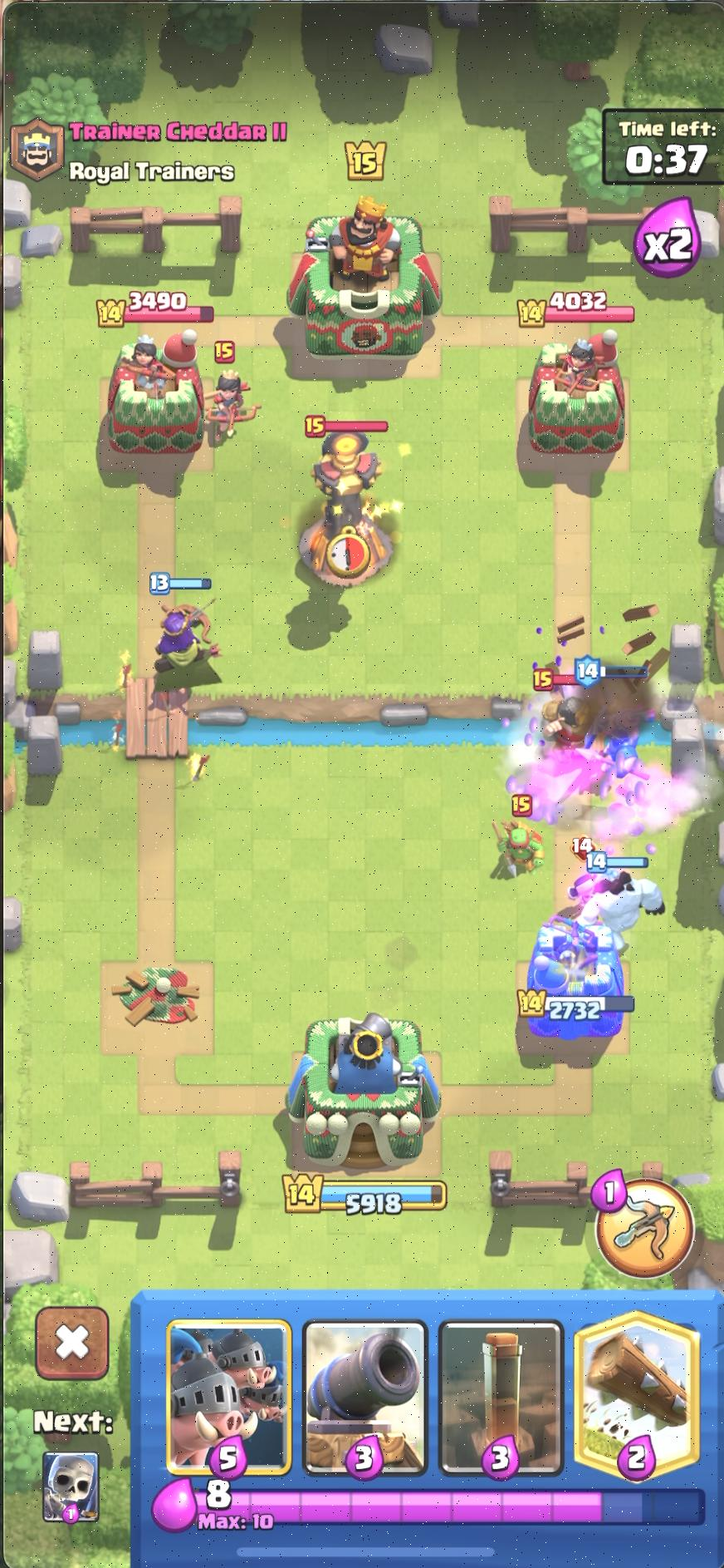card_cannon: (299, 1312, 430, 1479)
card_earthquake: (437, 1319, 567, 1481)
card_log: (572, 1303, 702, 1482)
card_royalhogs: (159, 1313, 296, 1482)
card_skeletons: (41, 1445, 104, 1531)
